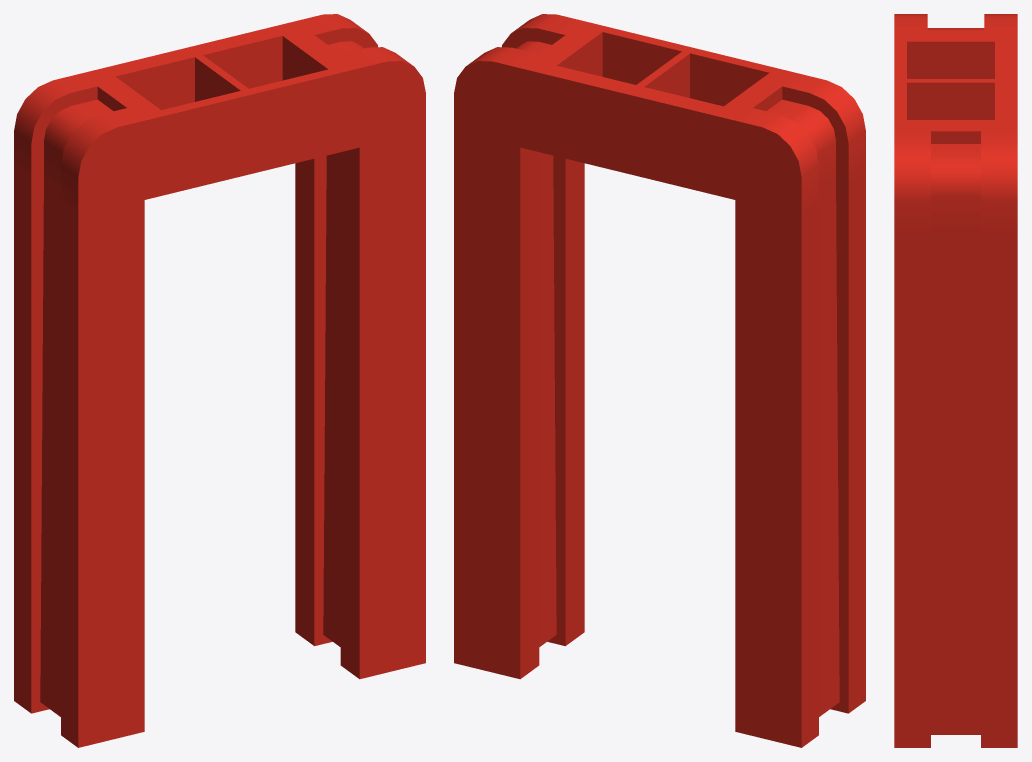
Rendered from SutunPlatform.fbx.
3 renders of one model, left to right at view 1: azimuth 30°, elevation 25°; view 2: azimuth 150°, elevation 25°; view 3: azimuth 270°, elevation 25°, orthographic. The views are drawn at different scales.
Parts seen in each view (by area): view 1: Plane.001; view 2: Plane.001; view 3: Plane.001.
Boxes of the visible parts, x1=… form: Plane.001: x1=14, y1=14, x2=425, y2=747; Plane.001: x1=454, y1=14, x2=865, y2=747; Plane.001: x1=894, y1=14, x2=1017, y2=747.
Size of the model in its own units: 329 by 553 by 105.
